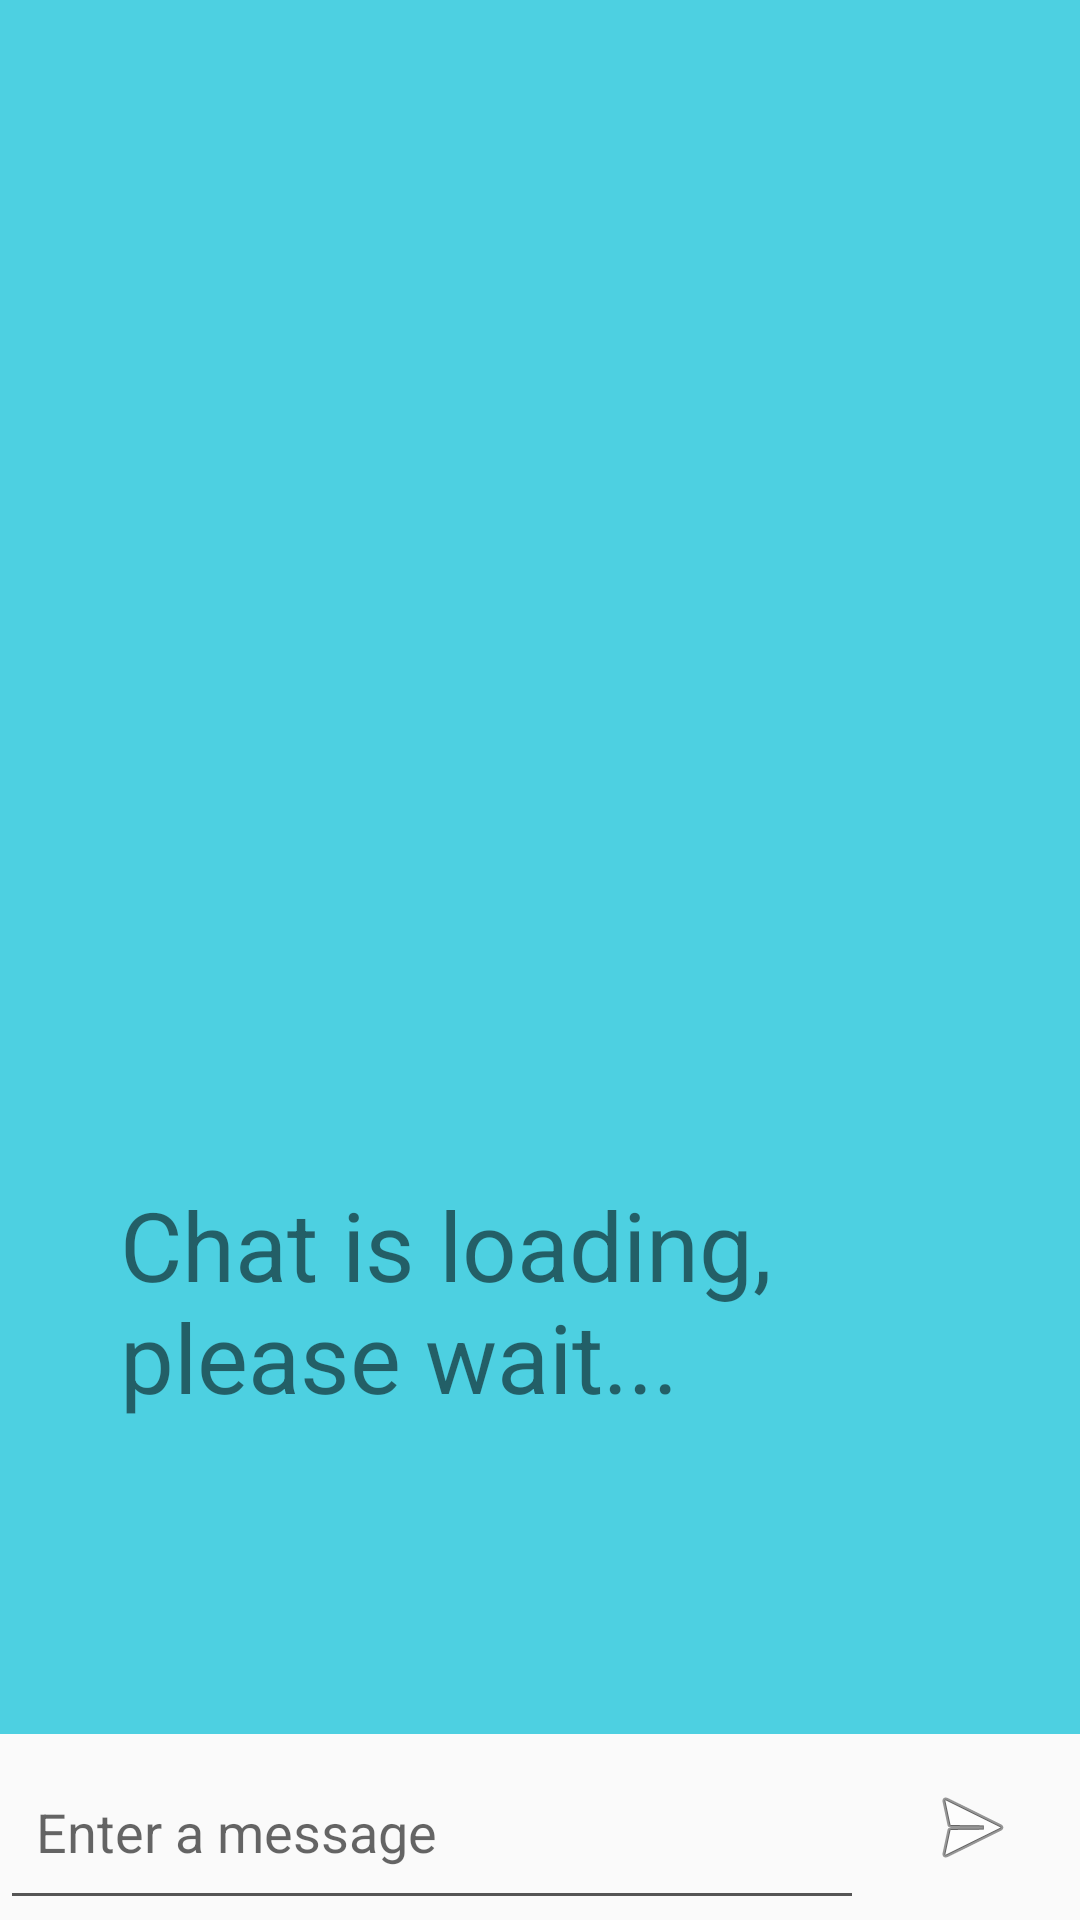

Icons on this 1080*1920 Android screen, each with the point to tap as [x,y]:
send: [973,1827]
